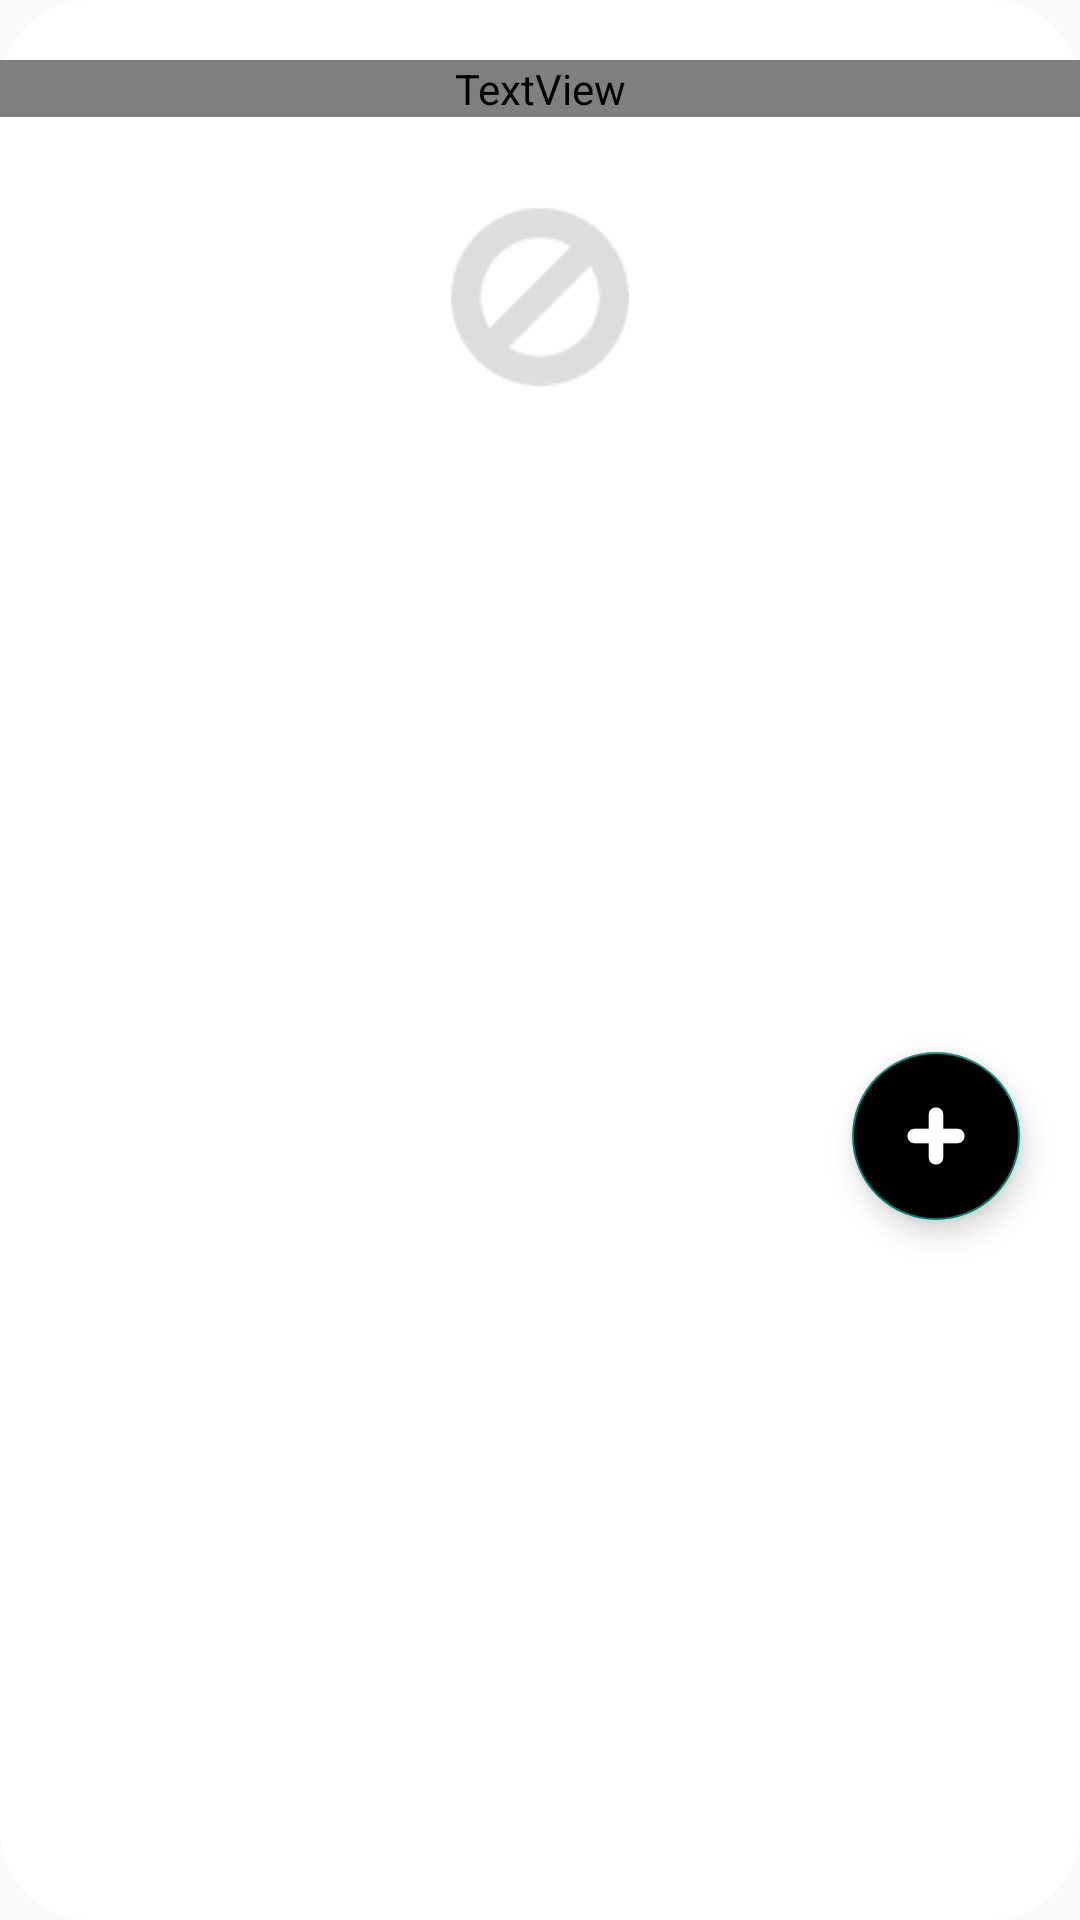

Where to tap for icons on this 1080 x 1920 app screen, as (x=x, y=y):
none: (x=540, y=297)
plus: (x=936, y=1136)
